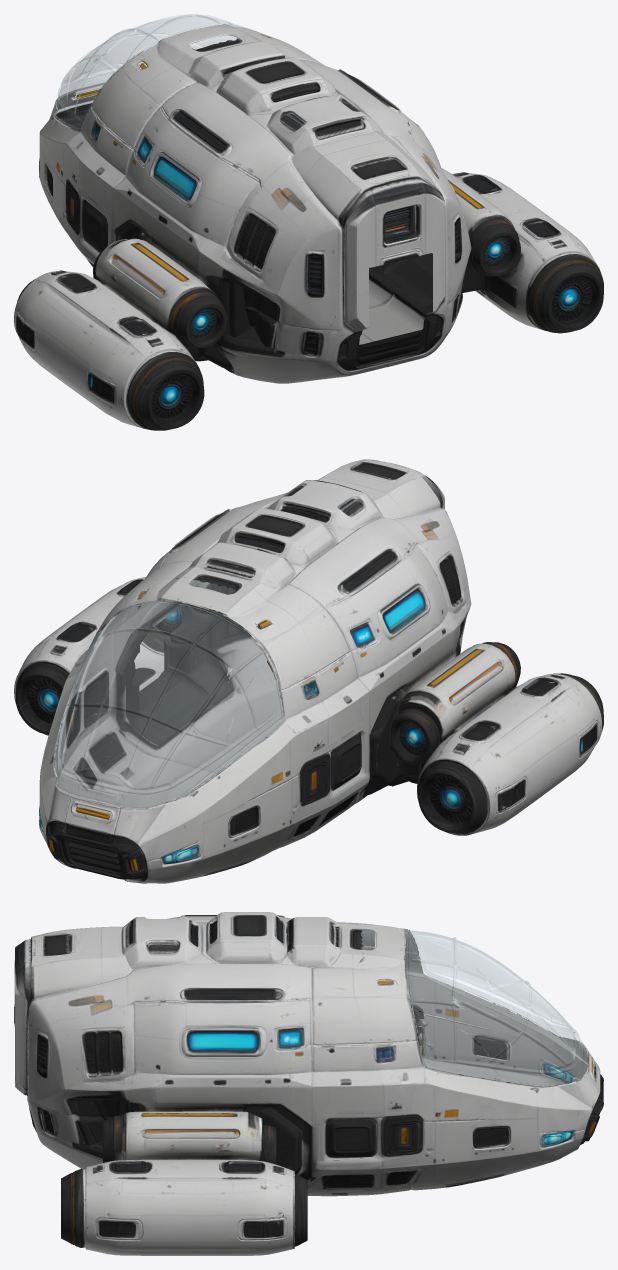
File: 前挡玻璃-r2接缝对齐-外观审阅-r9.glb
3 views of the same model, one above another, from view 1: azimuth 30°, elevation 25°; view 2: azimuth 150°, elevation 25°; view 3: azimuth 270°, elevation 25° (orthographic). The views are drawn at different scales.
Visible parts, largest first — view 1: Exterior_Hull_90_0, Canopy_Glass_91_0; view 2: Exterior_Hull_90_0, Canopy_Glass_91_0; view 3: Exterior_Hull_90_0, Canopy_Glass_91_0.
Part boxes in pixels (box(x1,y1,x2,y2)): Exterior_Hull_90_0: box(14, 24, 603, 430); Canopy_Glass_91_0: box(55, 14, 253, 118); Exterior_Hull_90_0: box(14, 459, 603, 883); Canopy_Glass_91_0: box(51, 580, 266, 822); Exterior_Hull_90_0: box(14, 912, 603, 1255); Canopy_Glass_91_0: box(361, 929, 596, 1091).
Bounding box in the file's own units: 14.46 × 6.95 × 16.
2 materials, 1 textured.
